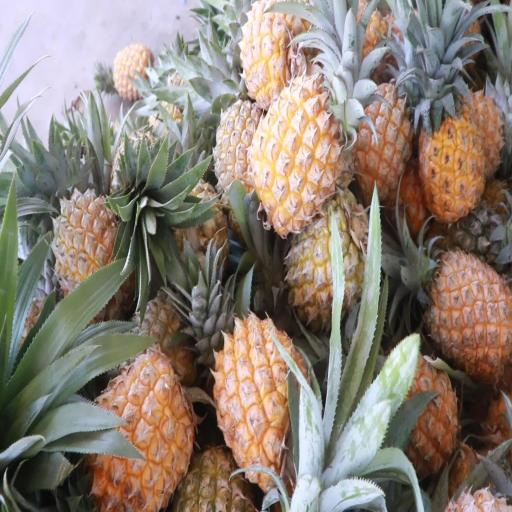------------------------------: (288, 198, 371, 328)
Pineapple - v8 v1: (86, 362, 194, 506), (215, 318, 308, 479), (258, 86, 344, 234), (374, 356, 456, 482), (422, 253, 510, 368), (349, 83, 415, 204), (420, 110, 485, 225), (243, 0, 313, 105)
